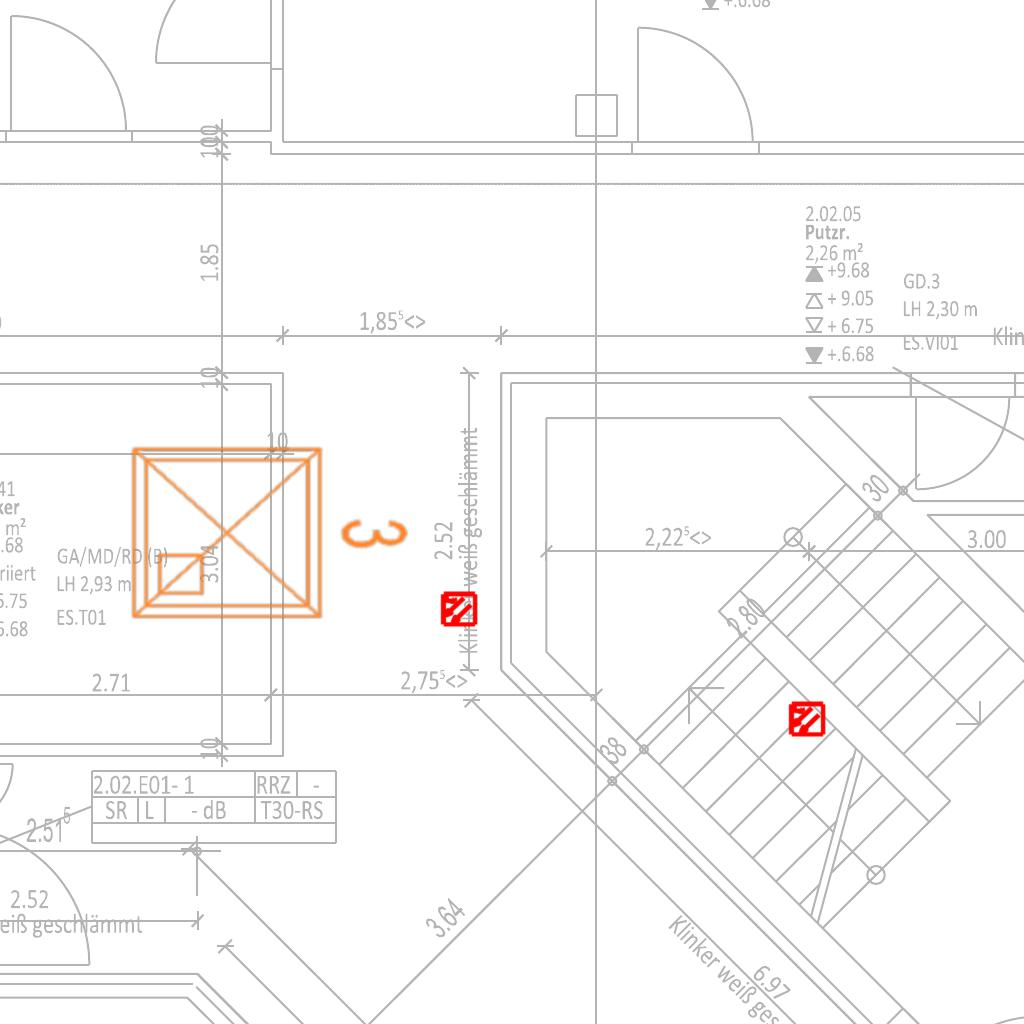Einbaudownlights_LED_Konferenzraeume: (118, 425, 418, 633)
OT_Multisensormelder_(Kombination_RMO_WMD): (430, 581, 486, 637), (778, 691, 834, 747)
